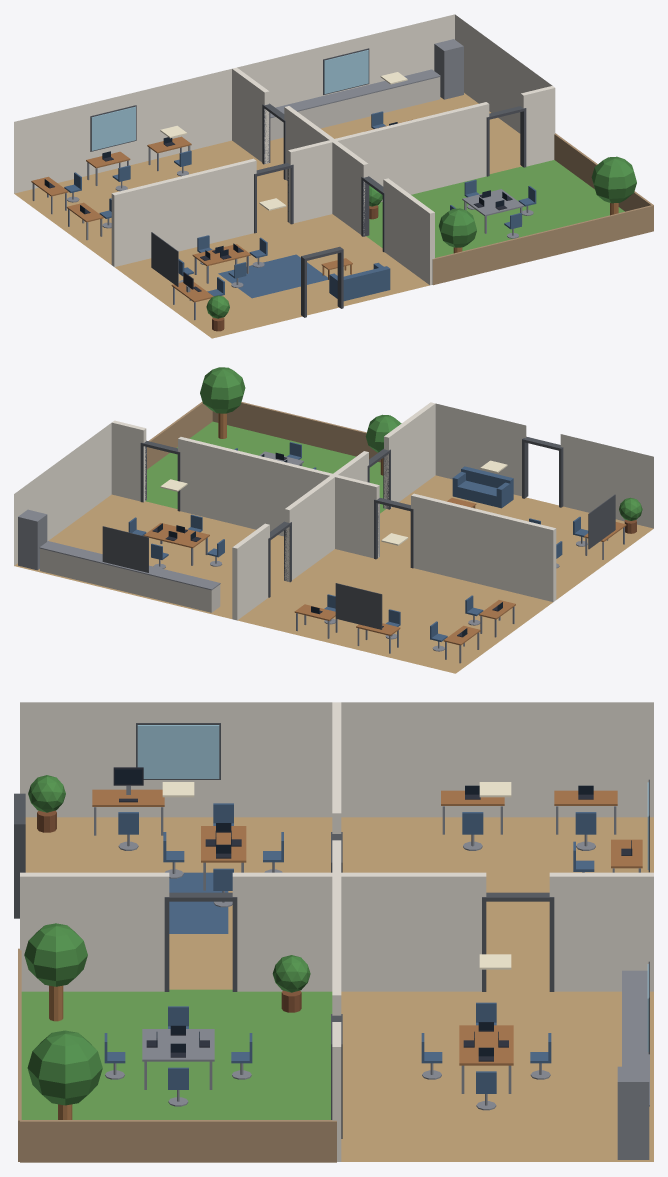
The picture shows the model from 3 angles, top to bottom: view 1: azimuth 30°, elevation 25°; view 2: azimuth 150°, elevation 25°; view 3: azimuth 270°, elevation 25°; orthographic projection. The views are drawn at different scales.
Visible parts, largest first — view 1: wall, floor, grass, fence, fabric, frame, metal, plant, counter, glass, wood, light (+2 smaller); view 2: wall, floor, frame, fence, grass, metal, counter, fabric, plant, wood, light; view 3: wall, floor, grass, fence, metal, plant, fabric, wood, frame, glass, screen, light (+2 smaller).
Boxes of the visible parts, box(x1,y1,x2,y2) form: wall: box(14, 14, 555, 285); floor: box(14, 93, 521, 338); grass: box(366, 160, 624, 257); fence: box(432, 133, 653, 285); fabric: box(64, 111, 536, 301); frame: box(90, 48, 526, 317); metal: box(32, 39, 533, 320); plant: box(206, 156, 636, 318); counter: box(270, 77, 440, 140); glass: box(91, 50, 368, 150); wood: box(31, 119, 618, 302); light: box(160, 72, 407, 210); wall: box(14, 402, 653, 620); floor: box(14, 475, 653, 673); frame: box(102, 436, 615, 629); fence: box(147, 401, 380, 469); grass: box(145, 421, 385, 513); metal: box(18, 451, 624, 663); counter: box(40, 548, 220, 612); fabric: box(128, 442, 588, 641); plant: box(200, 367, 642, 520); wood: box(143, 413, 626, 645); light: box(160, 460, 507, 545); wall: box(20, 702, 653, 1161); floor: box(25, 817, 653, 1161); grass: box(21, 989, 332, 1119); fence: box(18, 948, 336, 1162); metal: box(94, 785, 649, 1159); plant: box(24, 775, 310, 1105); fabric: box(104, 803, 596, 1093); wood: box(49, 789, 642, 1119); frame: box(14, 723, 649, 1138); glass: box(137, 725, 648, 1051); screen: box(115, 769, 631, 1056); light: box(162, 782, 511, 969).
Bounding box in the file's own units: 18.04 × 2.8 × 14.13.
